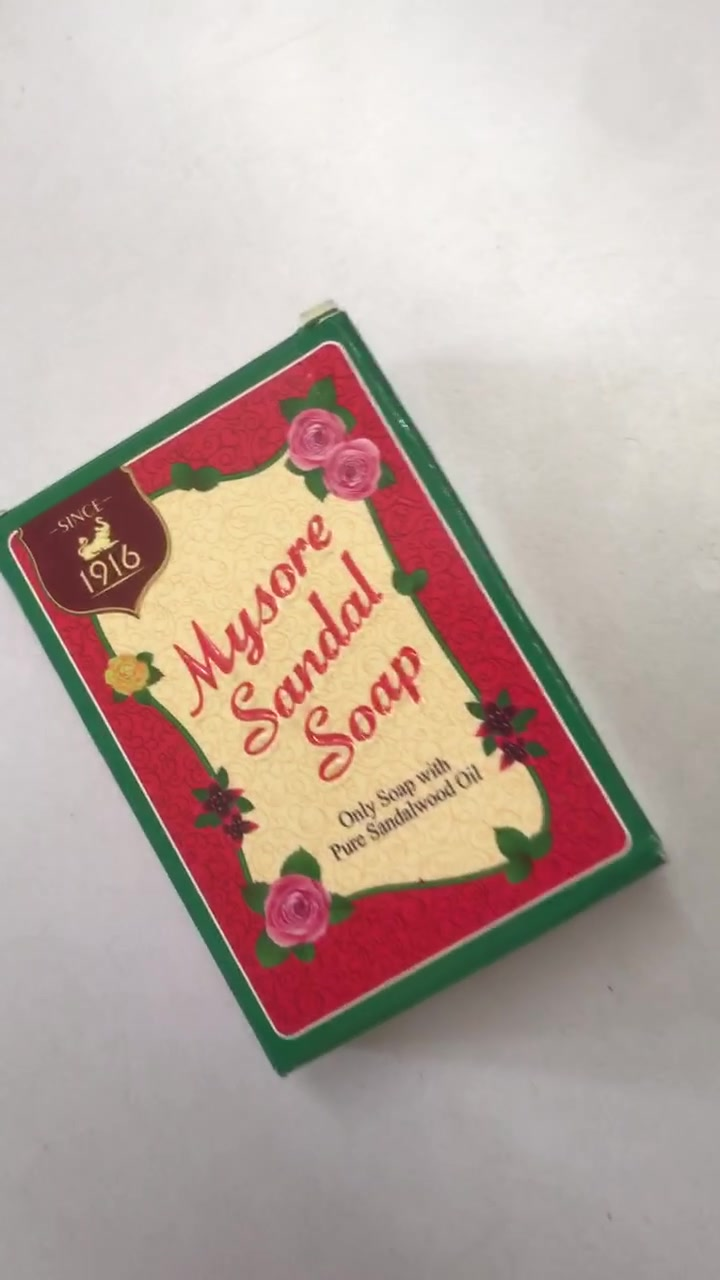mysore sandal soap: (1, 313, 660, 1078)
